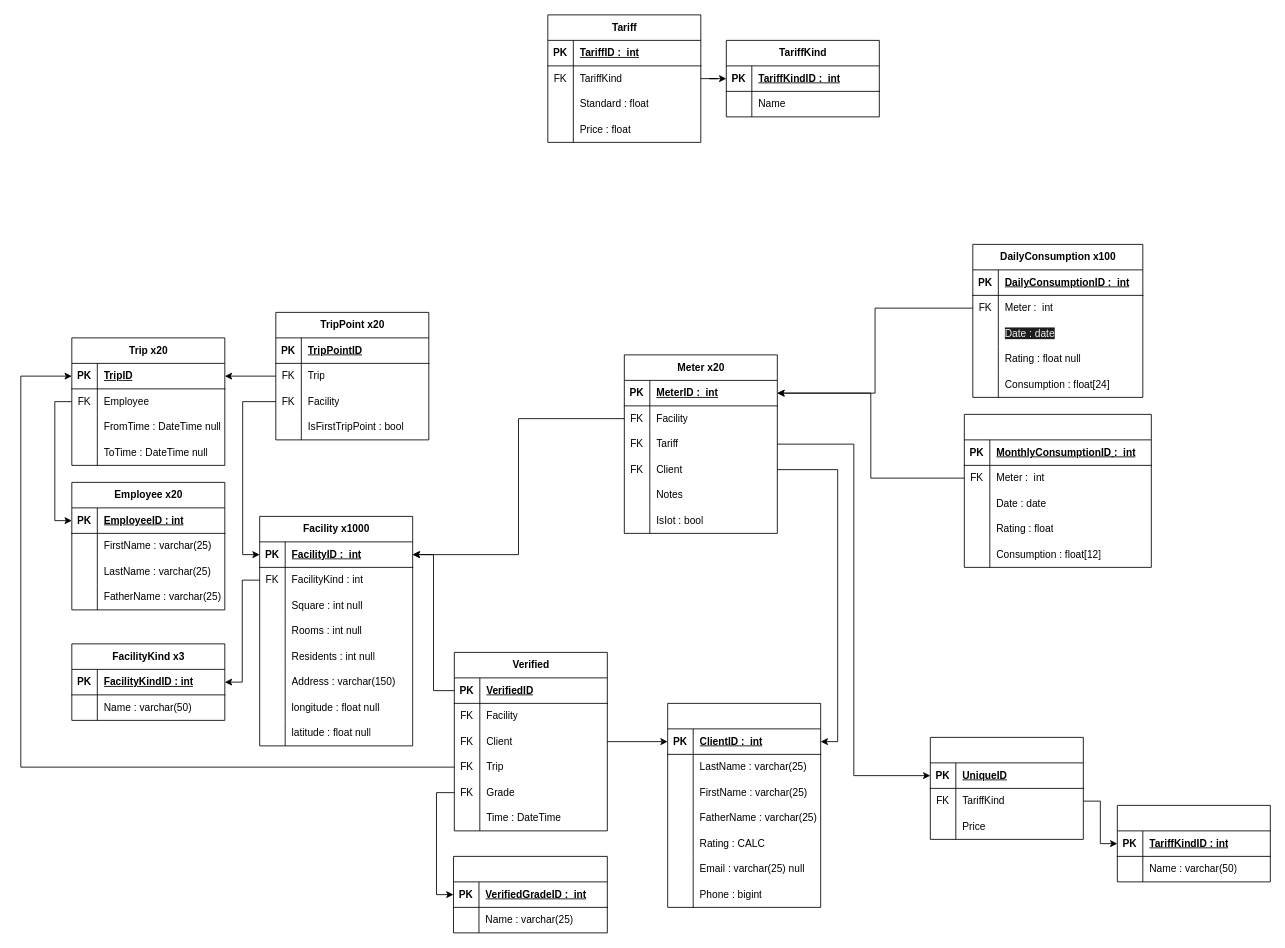
This 1285x948 diagram has some shape labels left out. Each missing label, with the box of its shape:
Client x100: (667, 703, 821, 907)
MonthlyConsumption x406: (963, 414, 1151, 567)
Tariff x4: (929, 737, 1083, 839)
TariffKind x4: (1116, 805, 1270, 882)
VerifiedGrade x4: (453, 856, 607, 933)
